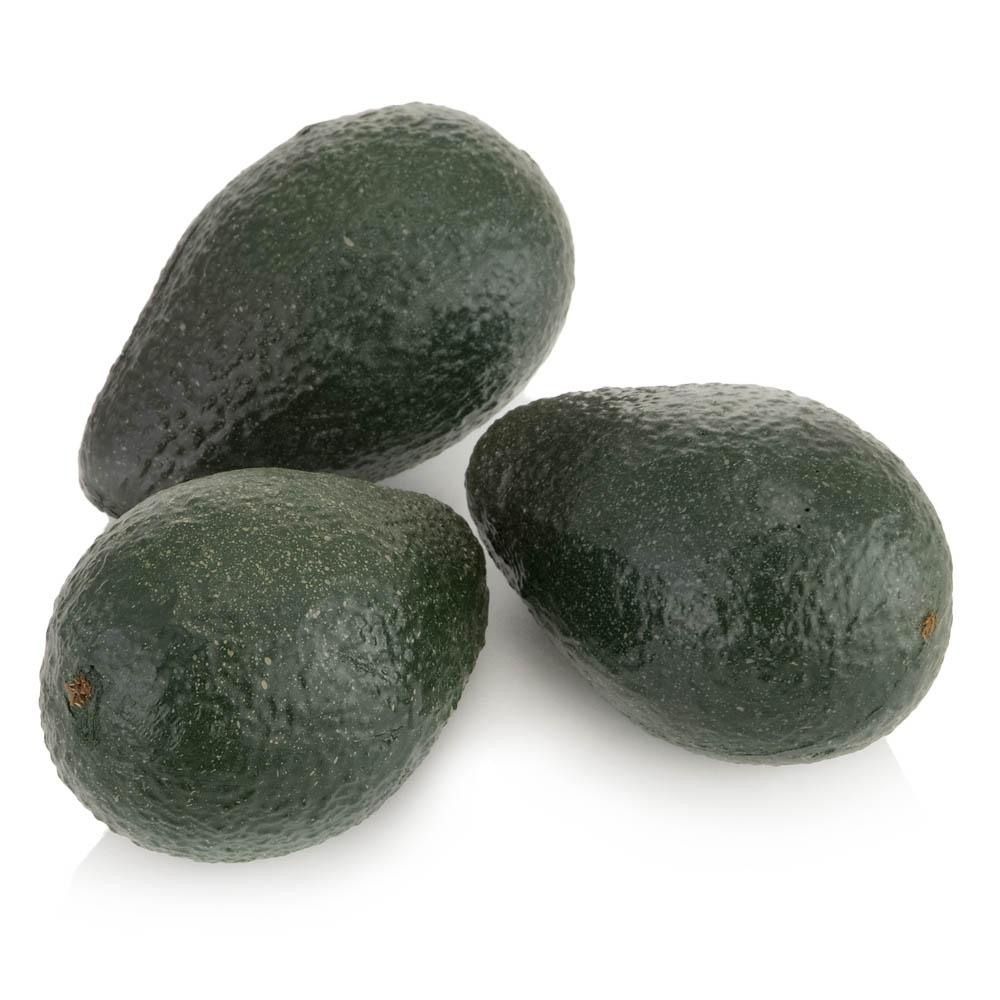ripe: (80, 103, 576, 515), (464, 384, 954, 767), (39, 468, 489, 863)
